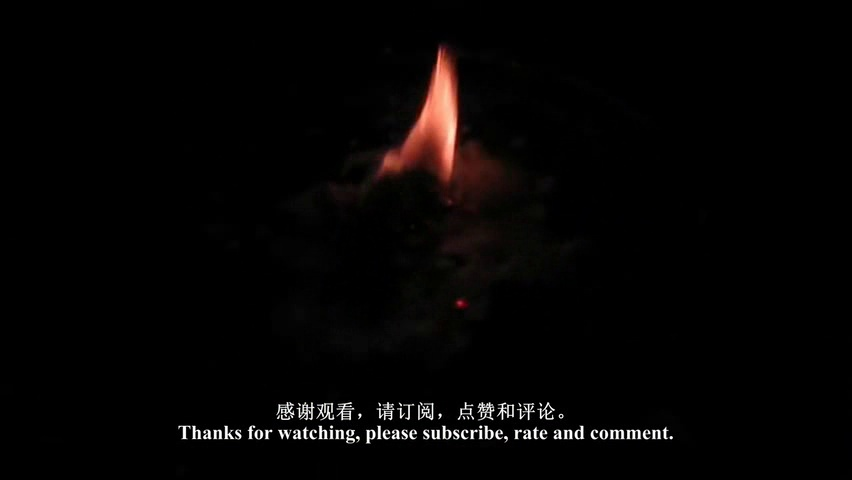fire: (352, 44, 465, 218)
